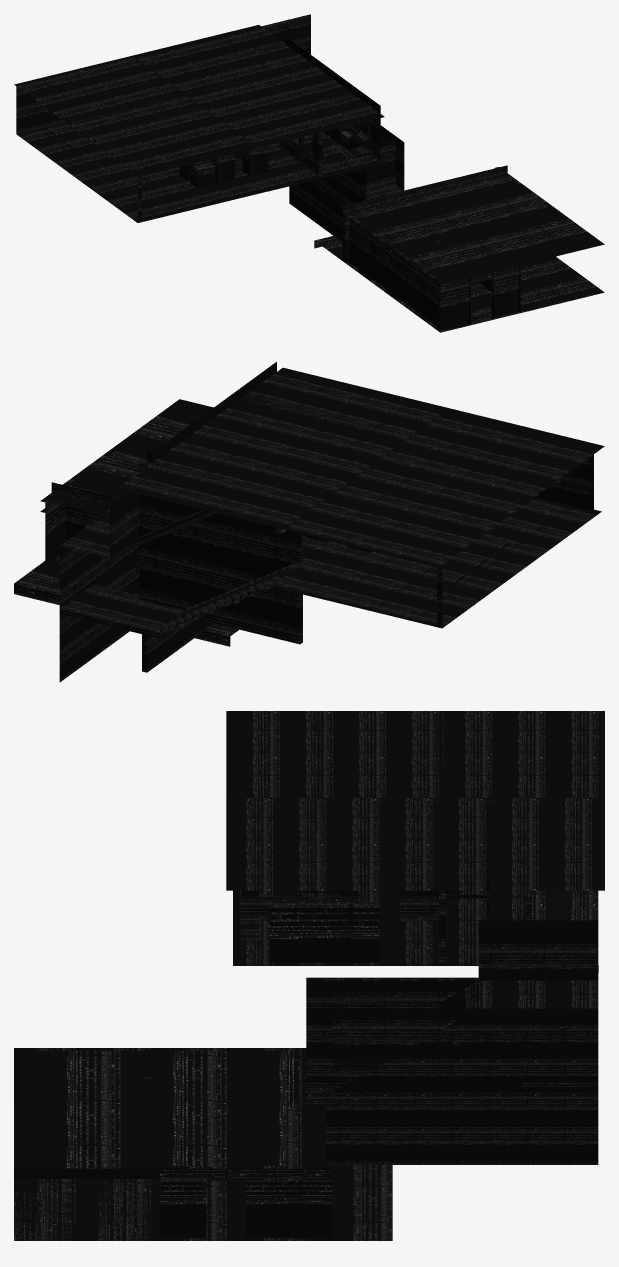
Rendered from room2ccont_opt.obj.
3 renders of one model, top to bottom at view 1: azimuth 30°, elevation 25°; view 2: azimuth 150°, elevation 25°; view 3: azimuth 270°, elevation 25°, orthographic. The views are drawn at different scales.
Size of the model in its own units: 3296 by 1408 by 2848.
